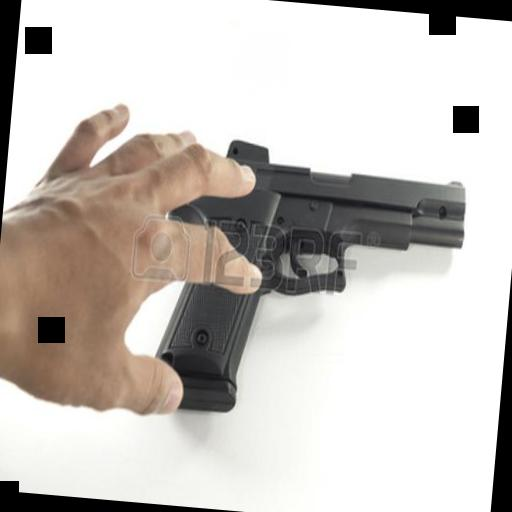Handgun: (134, 129, 472, 434)
